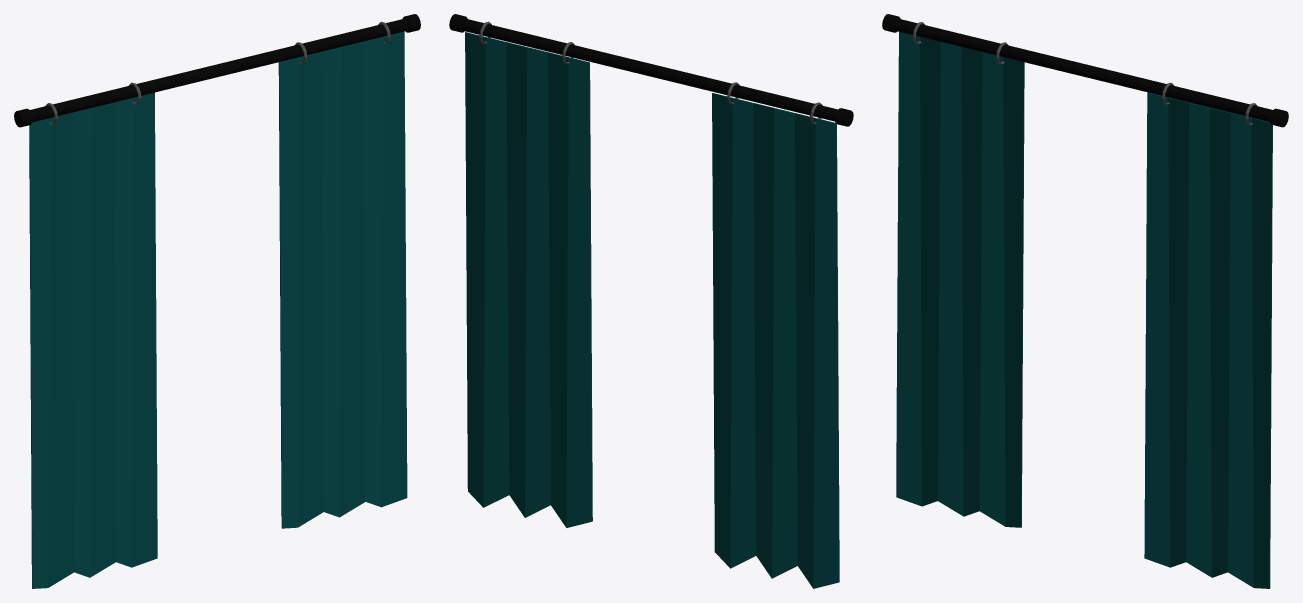
Rendered from window_screen_2.fbx.
3 views of the same model, side by side, from view 1: azimuth 30°, elevation 25°; view 2: azimuth 150°, elevation 25°; view 3: azimuth 330°, elevation 25° (orthographic).
Visible parts, largest first — view 1: window_screen.001; view 2: window_screen.001; view 3: window_screen.001.
Boxes of the visible parts, x1,y1,x2,y2 form: window_screen.001: [14, 14, 420, 588]; window_screen.001: [449, 14, 853, 588]; window_screen.001: [882, 14, 1288, 588].
Bounding box in the file's own units: 3.54 × 4.13 × 0.1805.
